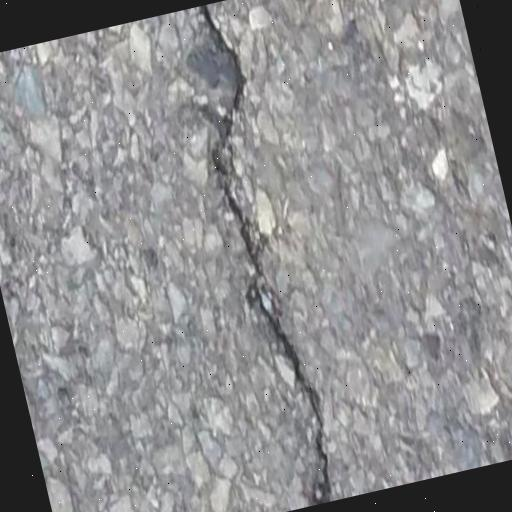spalling: (192, 3, 342, 501)
